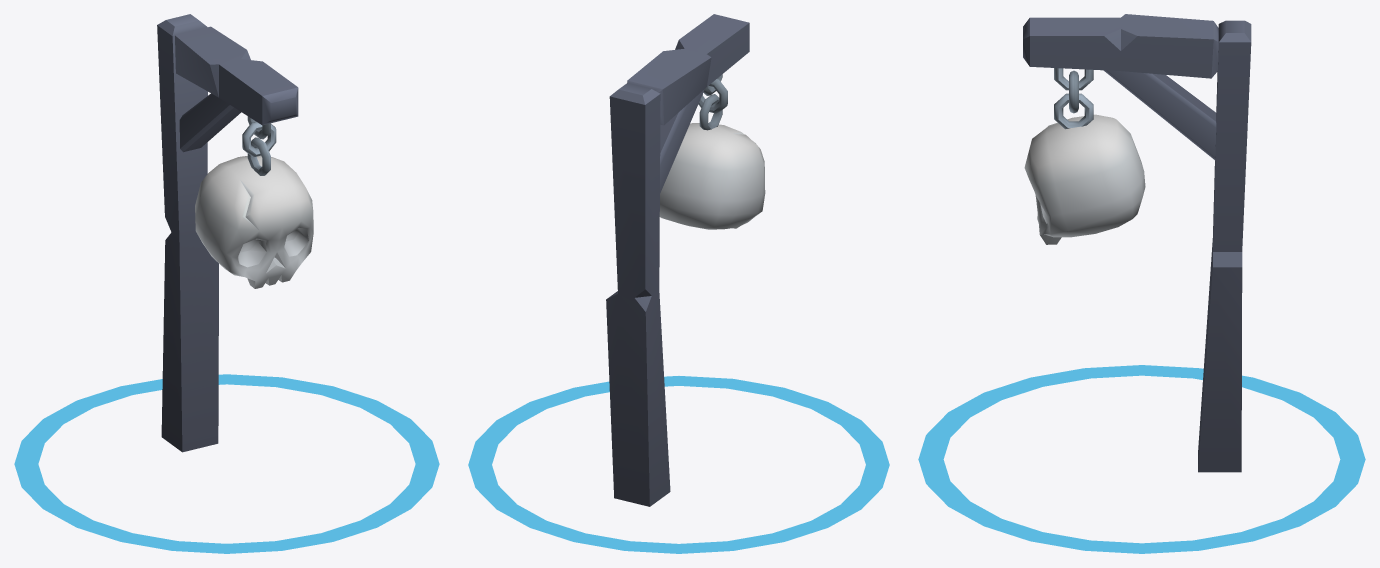
The model's file is foe_marker.fbx.
3 renders of one model, left to right at view 1: azimuth 30°, elevation 25°; view 2: azimuth 150°, elevation 25°; view 3: azimuth 270°, elevation 25°, orthographic. The views are drawn at different scales.
Visible parts, largest first — view 1: foe_marker; view 2: foe_marker; view 3: foe_marker.
Part boxes in pixels (x1,y1,x2,y2): foe_marker: [14, 14, 439, 553]; foe_marker: [468, 14, 889, 553]; foe_marker: [918, 14, 1365, 553].
Size of the model in its own units: 2.3 by 2.47 by 2.3.
